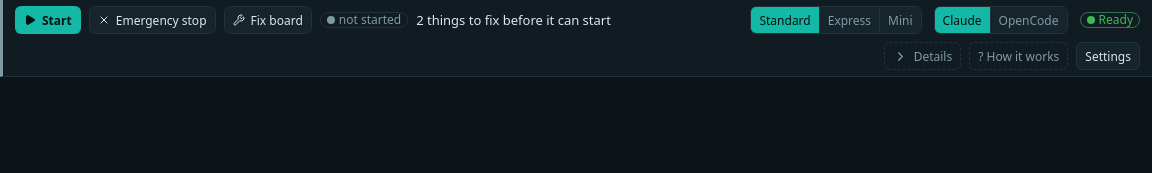
Test: the details drawer › opens on the blockers when the project is not ready
Click the button with test id "ap-expand" at x=922, y=56, box left=884, top=42, right=961, bottom=70
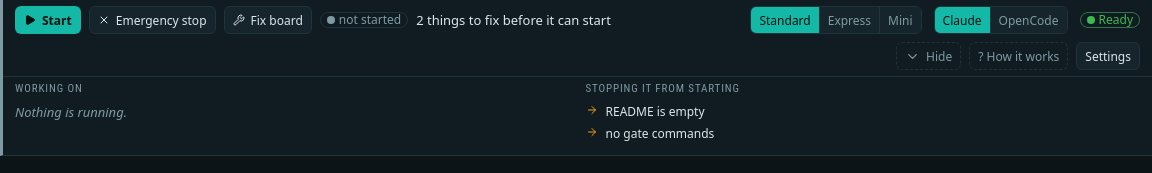
Expected: the element with test id "ap-drawer" shows "README is empty", left=606, top=103, right=704, bottom=120
Expected: the element with test id "ap-drawer" shows "no gate commands", left=606, top=125, right=714, bottom=142
Expected: the element with test id "ap-drawer" shows "Nothing is running", left=15, top=103, right=127, bottom=121
